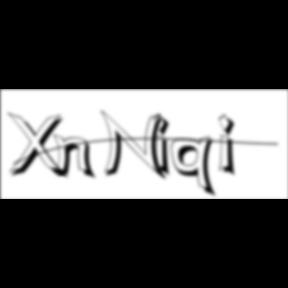N: (101, 109, 171, 183)
X: (7, 112, 71, 182)
i: (153, 112, 177, 180), (219, 112, 243, 180)
n: (53, 132, 100, 181)
q: (172, 135, 220, 200)
